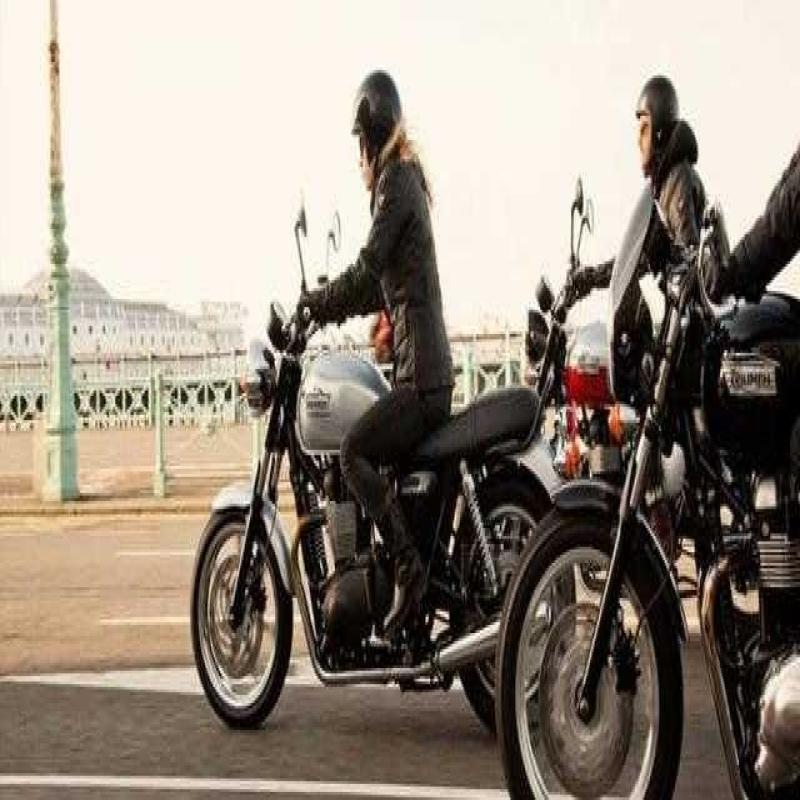bike: (210, 164, 563, 755), (505, 203, 800, 800), (520, 162, 652, 495)
